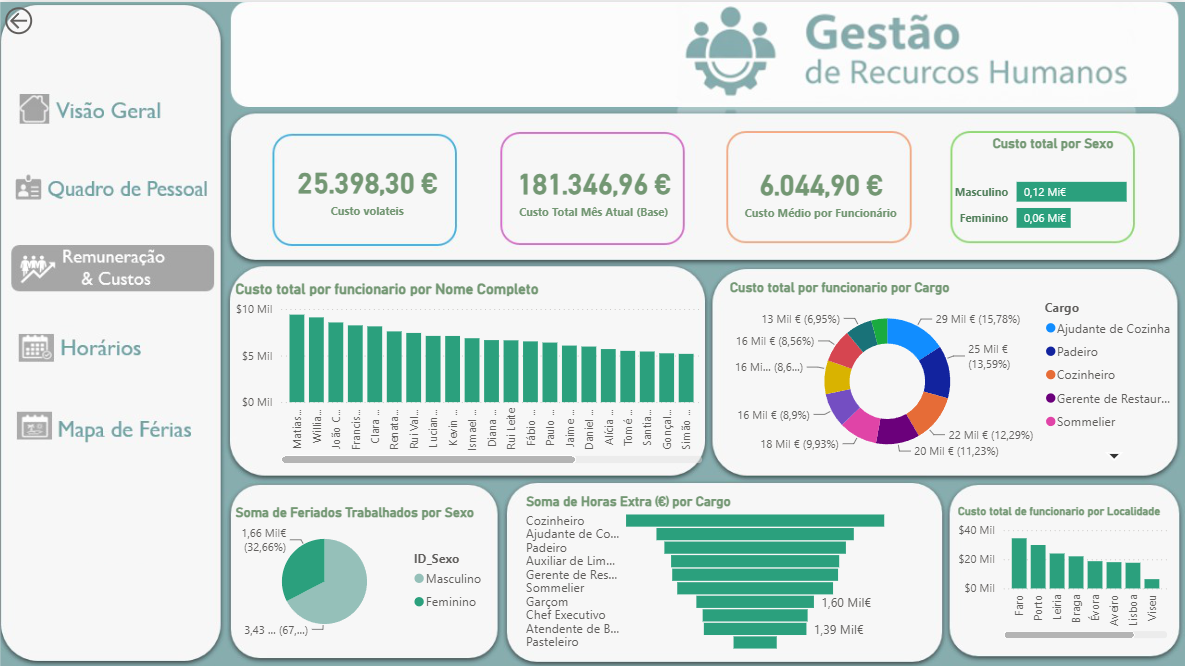

Layout of this report page (visuals, bound fields, positions):
{"tool":"powerbi","page":{"name":"Remuneração e Custo","canvas":[1280,720],"ordinal":2},"visuals":[{"type":"actionButton","box":[0,0,100,40],"z":0},{"type":"clusteredColumnChart","fields":{"Category":["Base de funcionarios.Nome Completo"]},"box":[249,286.6,497.9,227.8],"z":1000},{"type":"card","fields":{"Values":["Média de Antiguidade anos.Custo volateis por funcionario"]},"box":[253.7,131.5,285.4,140.9],"z":2000},{"type":"card","fields":{"Values":["Média de Antiguidade anos.Custo Total Mês Atual (Base)"]},"box":[497.9,128,285.4,149.1],"z":3000},{"type":"card","fields":{"Values":["Média de Antiguidade anos.Custo Médio por Funcionário"]},"box":[792.7,131.5,187.9,145.6],"z":4000},{"type":"lineClusteredColumnComboChart","fields":{"Category":["Base de funcionarios.Nome Completo"],"Y":["Média de Antiguidade anos.Custo total por funcionario"]},"box":[249.2,300,513.8,203.1],"z":5000},{"type":"donutChart","fields":{"Y":["Média de Antiguidade anos.Custo total por funcionario"],"Category":["Cargo.Cargo"]},"box":[783.1,300,496.9,203.1],"z":6000},{"type":"barChart","title":"Custo total por Sexo","fields":{"Category":["Base de funcionarios.ID_Sexo"],"Y":["Média de Antiguidade anos.Custo total por funcionario"]},"box":[1024.6,144.6,224.6,130.8],"z":7000},{"type":"funnel","fields":{"Category":["Cargo.Cargo"],"Y":["Sum(Custos.Horas Extra (€))"]},"box":[562.5,530.8,401.6,173.8],"z":8000},{"type":"pieChart","title":"Soma de Feriados Trabalhados por Sexo","fields":{"Y":["Sum(Custos.Feriados Trabalhados (€))"],"Category":["Base de funcionarios.ID_Sexo"]},"box":[249,543.7,285.4,149.1],"z":9000},{"type":"clusteredColumnChart","title":"Custo total de funcionario por Localidade","fields":{"Category":["Base de funcionarios.ID_Localidade"],"Y":["Média de Antiguidade anos.Custo total por funcionario"]},"box":[1030,542.6,236.1,149.1],"z":10000}]}

Visuals, with their boxes on the page's 1280x720 design canvas (x1, y1, x2, y2). These are canvas units, not pixel positions in the 1185x666 screenshot, which may show the page scaled, cropped or inside an application window:
actionButton: x1=0, y1=0, x2=100, y2=40
clusteredColumnChart - Base de funcionarios.Nome Completo: x1=249, y1=287, x2=747, y2=514
card - Média de Antiguidade anos.Custo volateis por funcionario: x1=254, y1=132, x2=539, y2=272
card - Média de Antiguidade anos.Custo Total Mês Atual (Base): x1=498, y1=128, x2=783, y2=277
card - Média de Antiguidade anos.Custo Médio por Funcionário: x1=793, y1=132, x2=981, y2=277
lineClusteredColumnComboChart - Base de funcionarios.Nome Completo x Média de Antiguidade anos.Custo total por funcionario: x1=249, y1=300, x2=763, y2=503
donutChart - Média de Antiguidade anos.Custo total por funcionario x Cargo.Cargo: x1=783, y1=300, x2=1280, y2=503
"Custo total por Sexo" barChart: x1=1025, y1=145, x2=1249, y2=275
funnel - Cargo.Cargo x Sum(Custos.Horas Extra (€)): x1=562, y1=531, x2=964, y2=705
"Soma de Feriados Trabalhados por Sexo" pieChart: x1=249, y1=544, x2=534, y2=693
"Custo total de funcionario por Localidade" clusteredColumnChart: x1=1030, y1=543, x2=1266, y2=692
